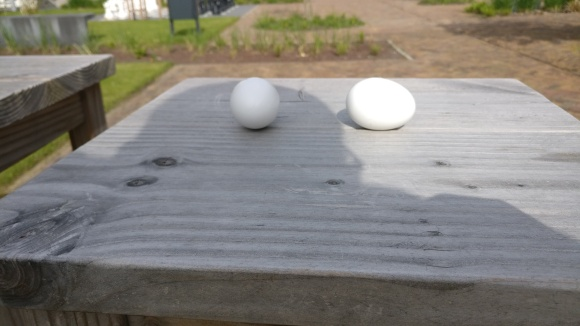egg: (346, 76, 416, 130), (230, 76, 281, 129)
